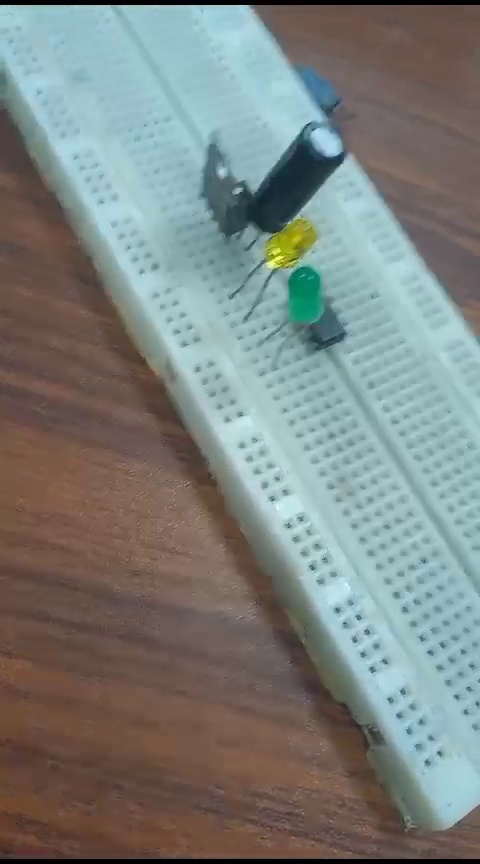LED: (252, 221, 332, 267), (282, 271, 324, 343)
capacitor: (244, 116, 346, 215)
voltage regulator: (187, 120, 252, 236)
